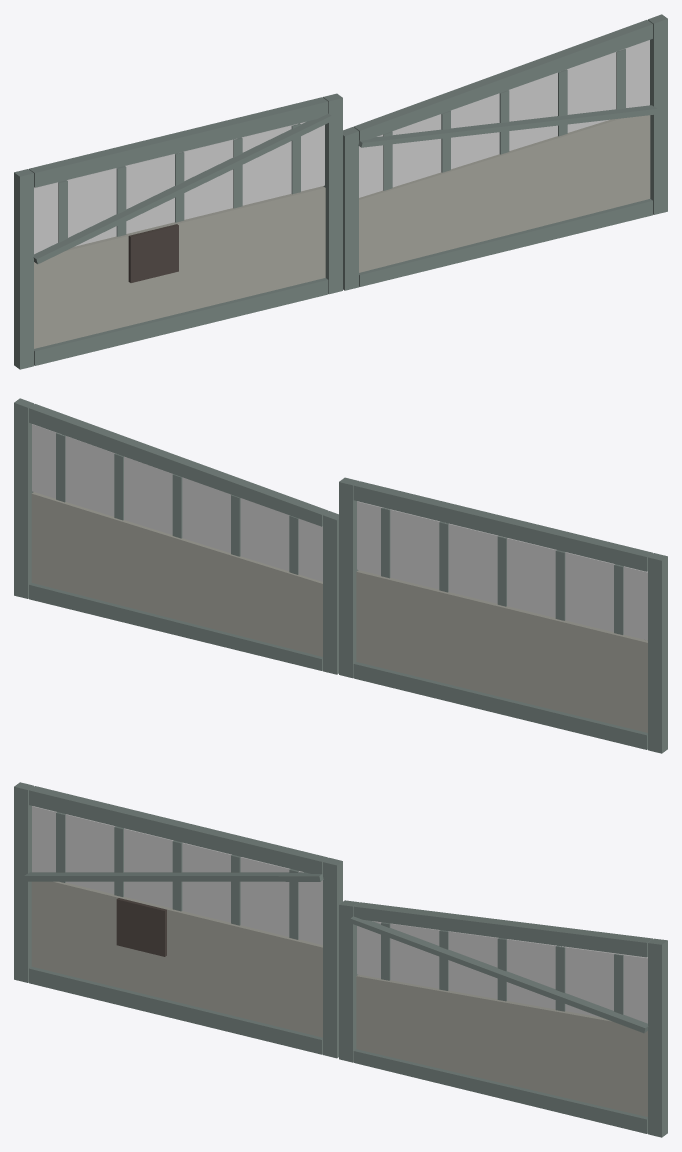
Rendered from SM_PuertaViaDoble_v0_TuboChapa_e1_Danado_LOD1.fbx.
3 renders of one model, top to bottom at view 1: azimuth 30°, elevation 25°; view 2: azimuth 150°, elevation 25°; view 3: azimuth 330°, elevation 25°, orthographic.
Visible parts, largest first — view 1: Hoja_O, Hoja_E; view 2: Hoja_O, Hoja_E; view 3: Hoja_O, Hoja_E.
Part boxes in pixels (<box>): Hoja_O: <box>14,93,342,369</box>; Hoja_E: <box>343,14,667,290</box>; Hoja_O: <box>339,477,667,753</box>; Hoja_E: <box>14,398,338,674</box>; Hoja_O: <box>14,782,342,1058</box>; Hoja_E: <box>339,900,667,1137</box>.
Size of what is drawn, in the model's own units: 7.38 by 2.1 by 0.2.
